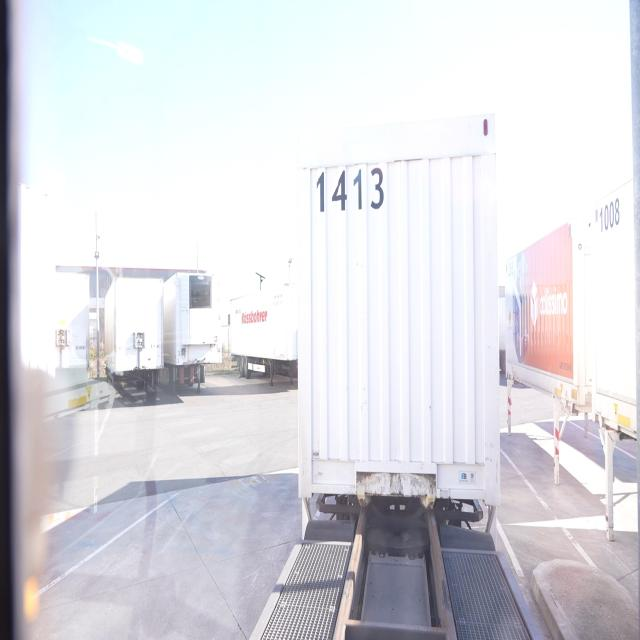Code: (313, 165, 387, 217)
